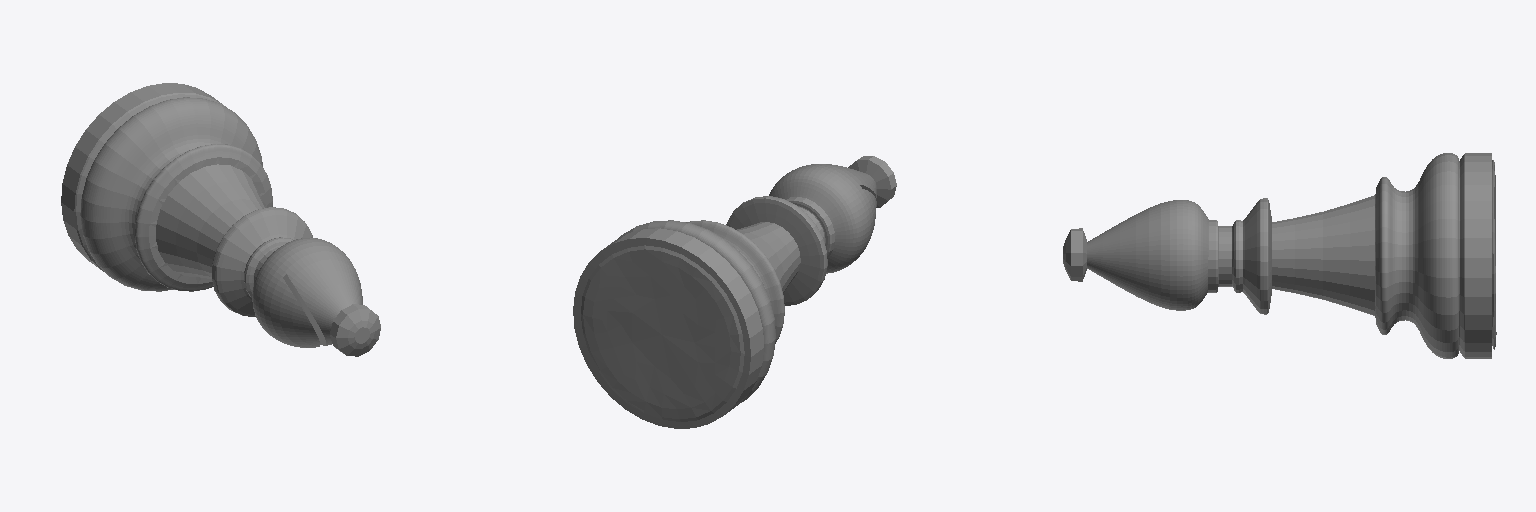
3 views of the same model, side by side, from view 1: azimuth 30°, elevation 25°; view 2: azimuth 150°, elevation 25°; view 3: azimuth 270°, elevation 25° (orthographic).
Visible parts, largest first — view 1: bishop, bishop_head, Cylinder12; view 2: knight_, bishop, bishop_head, Cylinder12; view 3: bishop, bishop_head, Cylinder12, knight_.
Boxes of the visible parts, x1,y1,x2,y2 form: bishop: [61, 83, 312, 316]; bishop_head: [252, 238, 362, 347]; Cylinder12: [330, 304, 380, 356]; knight_: [581, 245, 744, 421]; bishop: [573, 196, 834, 428]; bishop_head: [769, 164, 876, 273]; Cylinder12: [848, 156, 896, 207]; bishop: [1208, 153, 1491, 358]; bishop_head: [1087, 200, 1208, 310]; Cylinder12: [1063, 228, 1086, 281]; knight_: [1492, 160, 1496, 349].
Size of the model in its own units: 40.16 by 40.16 by 84.23.